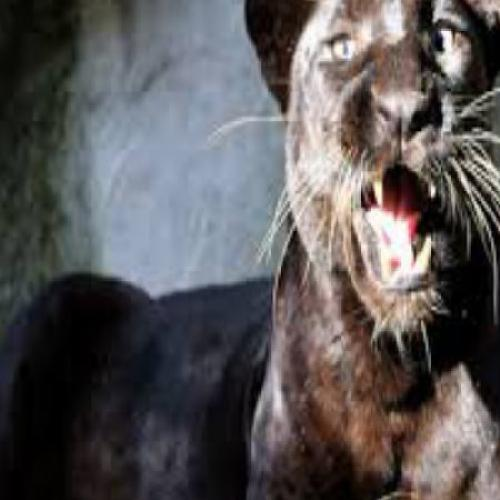panther-endangered: (20, 6, 493, 477)
